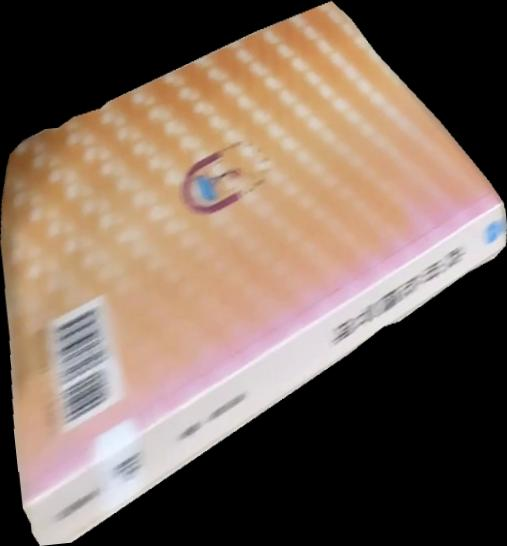flat: (1, 1, 507, 546)
